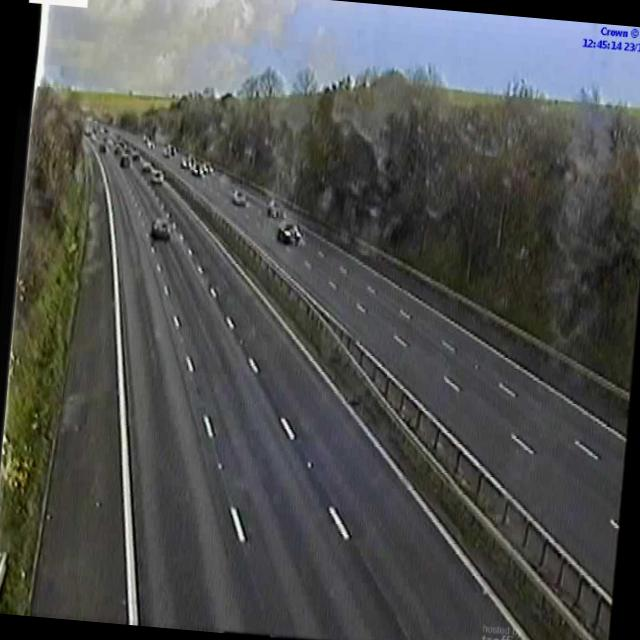foliage: (294, 104, 638, 342), (119, 96, 294, 193)
